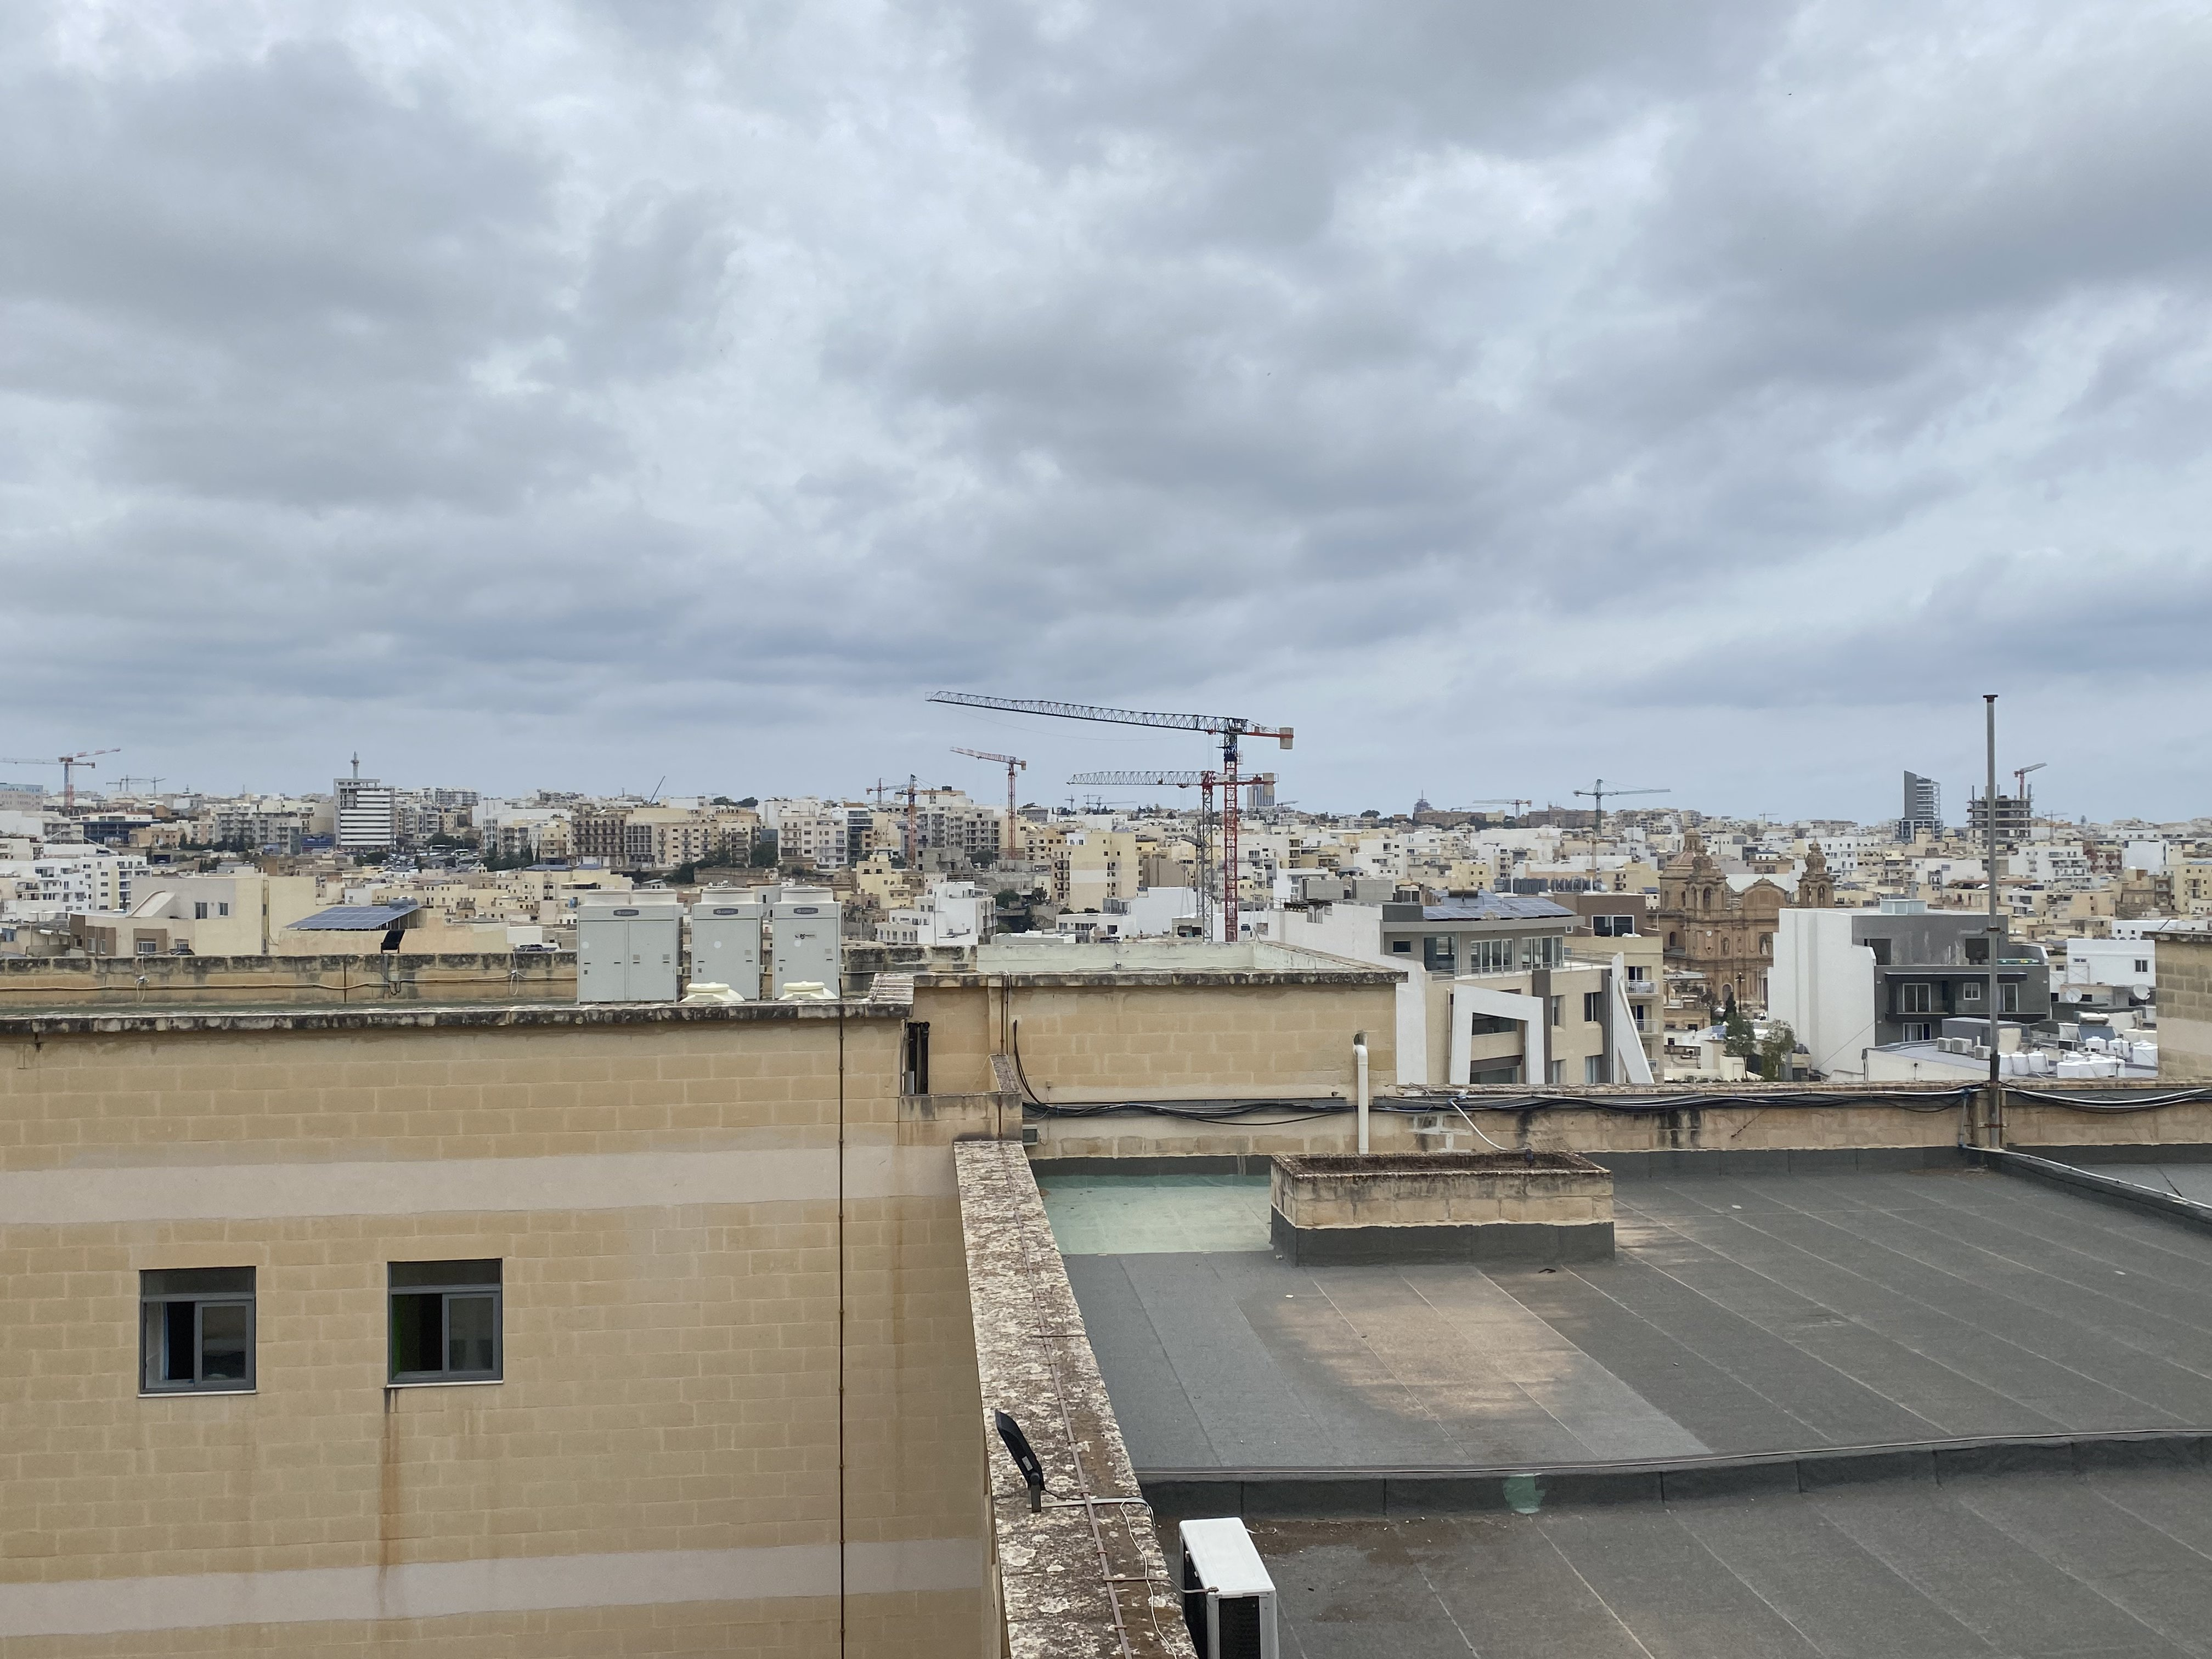crane: (917, 652, 1336, 759), (1032, 755, 1304, 819), (941, 731, 1044, 794)
